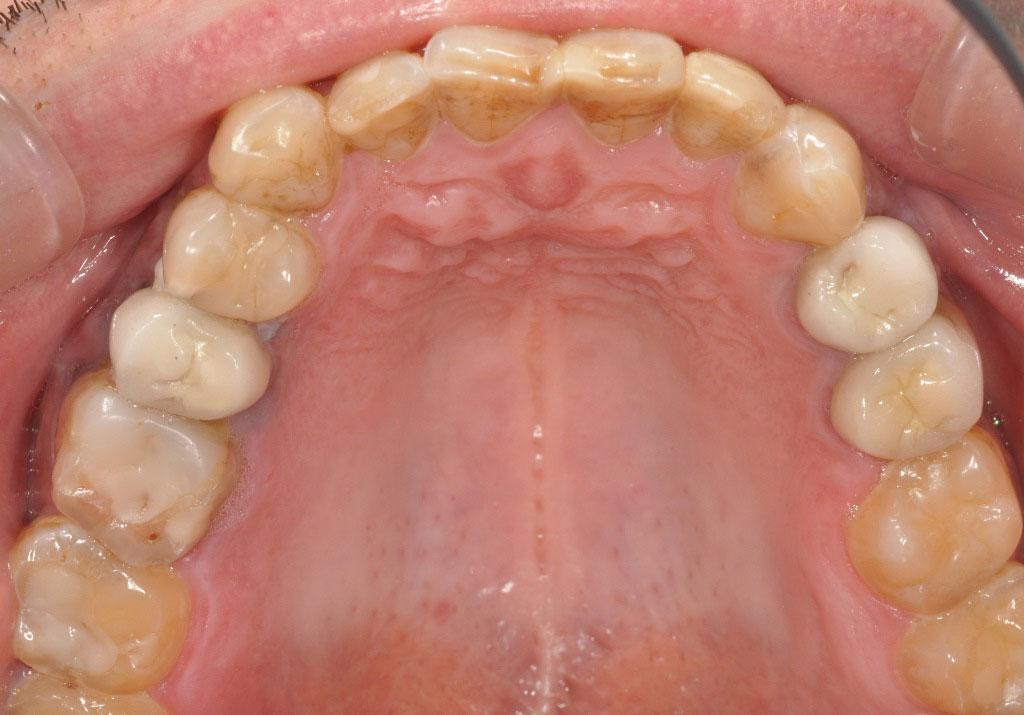UL1BC_decay: (788, 222, 922, 353)
UL1M_healthy: (849, 440, 1014, 613)
UL2BC_healthy: (832, 314, 978, 460)
UL2M_healthy: (893, 578, 1024, 711)
ULCI_decay: (564, 28, 681, 149)
ULC_healthy: (738, 121, 864, 235)
ULLI_healthy: (671, 61, 778, 157)
UR1BC_healthy: (162, 197, 317, 321)
UR1M_decay: (47, 374, 231, 570)
UR2BC_healthy: (96, 294, 271, 423)
UR2M_healthy: (12, 524, 192, 689)
URCI_decay: (428, 31, 564, 143)
URC_healthy: (217, 90, 346, 216)
URLI_decay: (327, 53, 430, 157)
